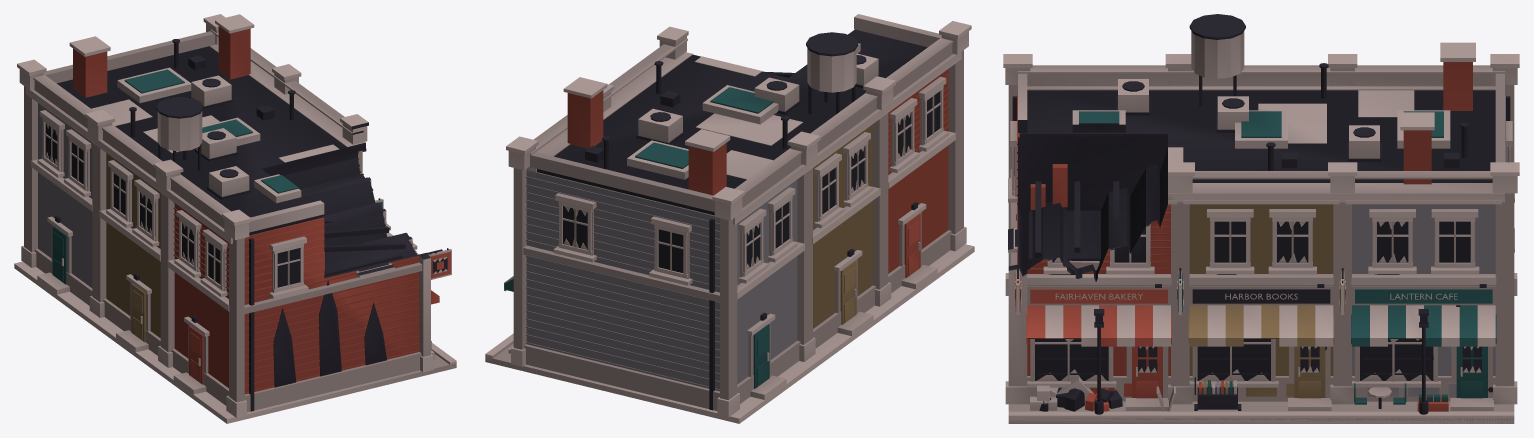
Rendered from bld.storefront-row.w5.lod1.glb.
The picture shows the model from 3 angles, left to right: view 1: azimuth 30°, elevation 25°; view 2: azimuth 150°, elevation 25°; view 3: azimuth 270°, elevation 25°; orthographic projection. The views are drawn at different scales.
Visible parts, largest first — view 1: body; view 2: body; view 3: body.
Boxes of the visible parts, x1,y1,x2,y2 form: body: (14,14,456,423); body: (485,14,974,423); body: (1003,14,1519,423).
Size of the model in its own units: 10.1 by 10.2 by 16.54.
